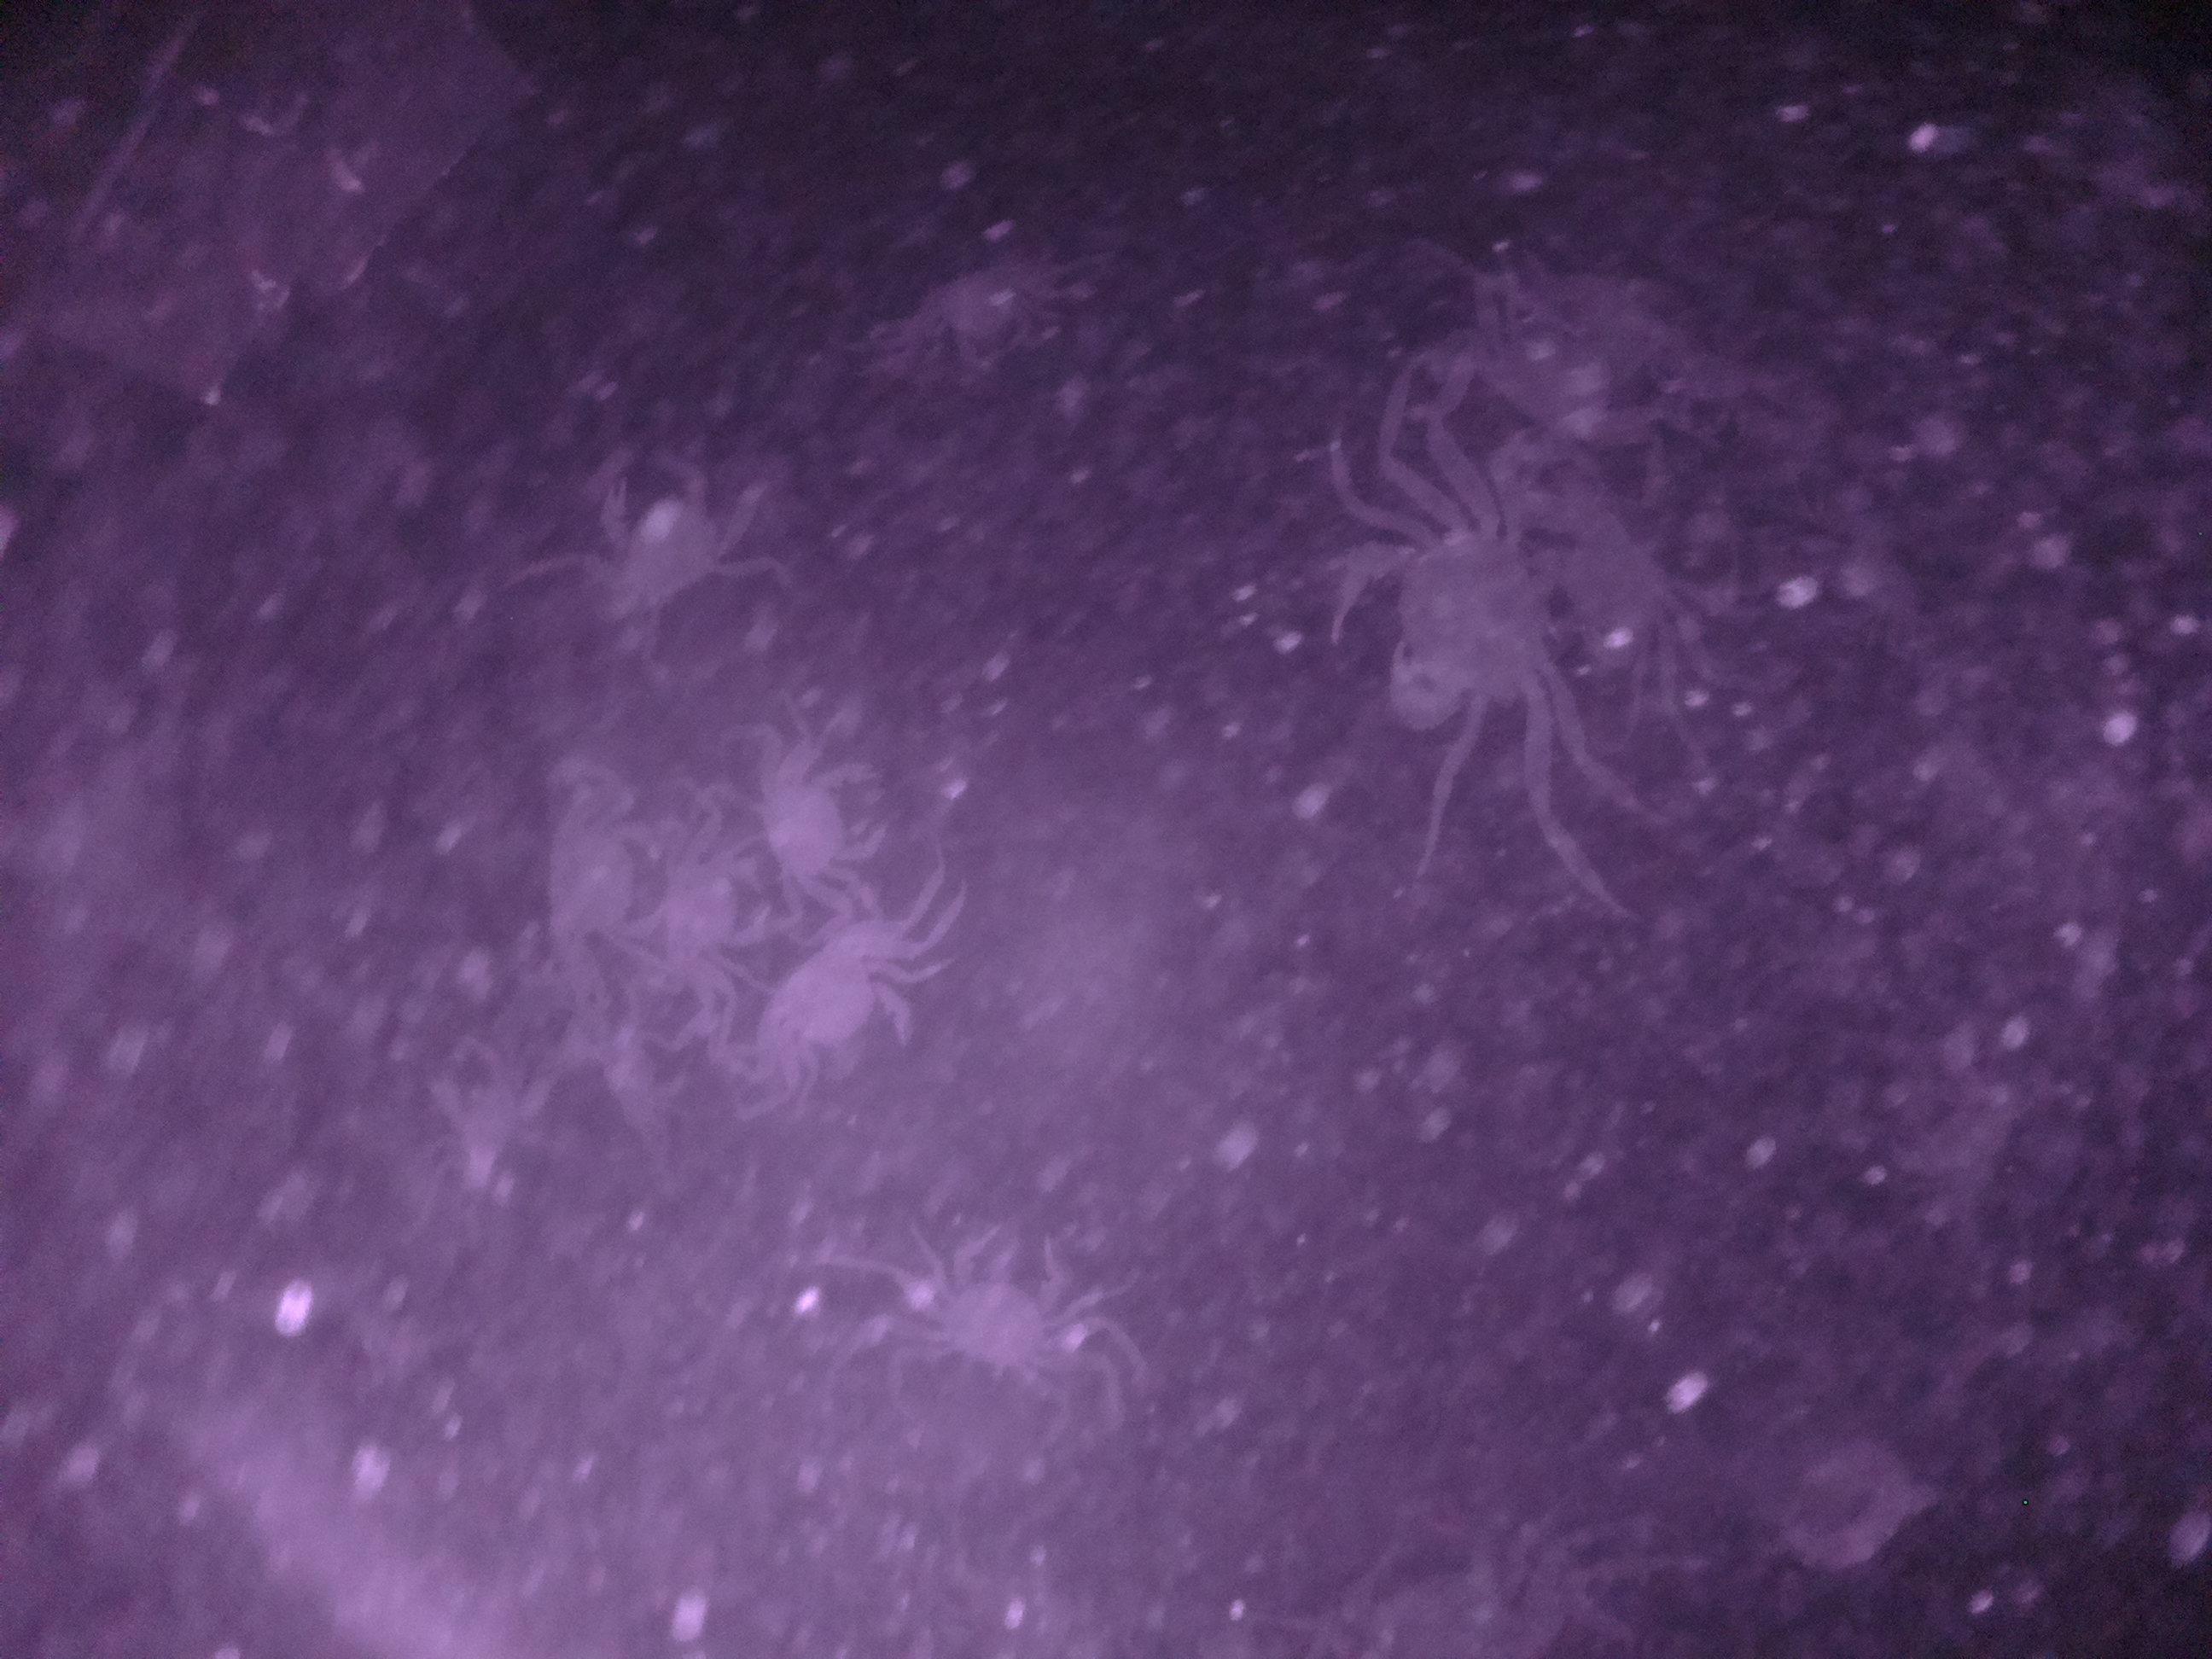Crab: (1324, 469, 1576, 770), (756, 899, 941, 1119), (897, 1202, 1101, 1384), (730, 716, 906, 913)
